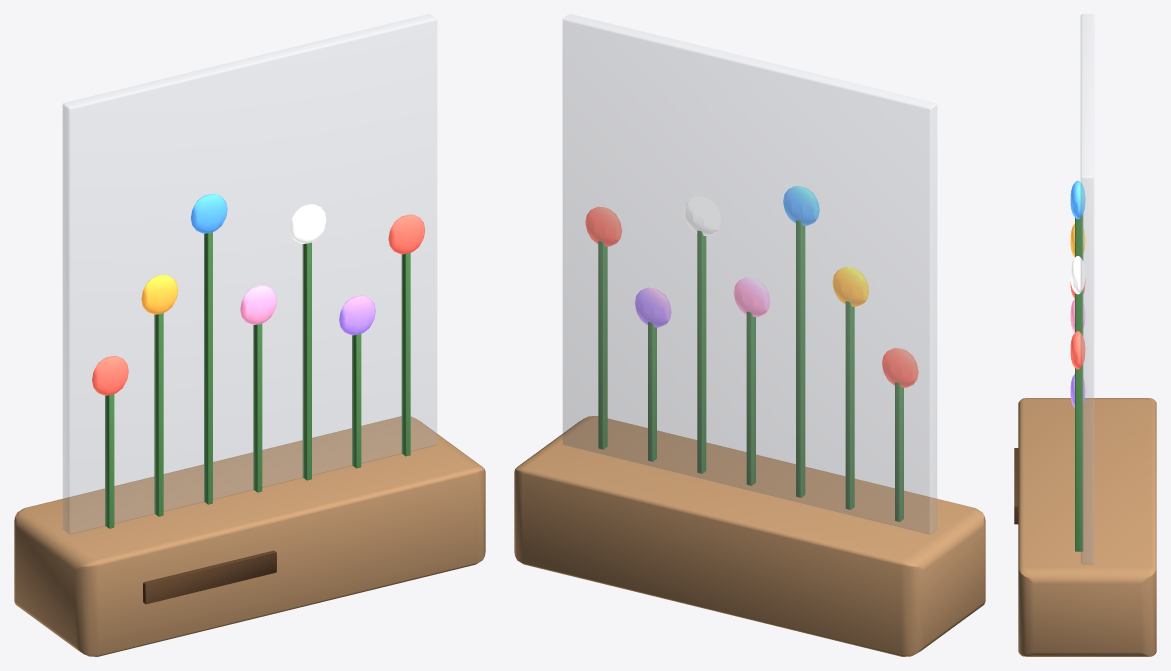
The model's file is object-flower-lamp.glb.
3 views of the same model, side by side, from view 1: azimuth 30°, elevation 25°; view 2: azimuth 150°, elevation 25°; view 3: azimuth 270°, elevation 25° (orthographic). The views are drawn at different scales.
Parts seen in each view (by area): view 1: Node_0-mesh, part-blooms-mesh; view 2: Node_0-mesh, part-blooms-mesh; view 3: Node_0-mesh, part-blooms-mesh.
Part boxes in pixels (x1,y1,x2,y2): Node_0-mesh: (14,14,485,656); part-blooms-mesh: (92,194,425,395); Node_0-mesh: (514,14,985,656); part-blooms-mesh: (585,186,918,387); Node_0-mesh: (1014,14,1156,656); part-blooms-mesh: (1070,180,1085,407).
Size of the model in its own units: 1.18 by 1.44 by 0.3914.
